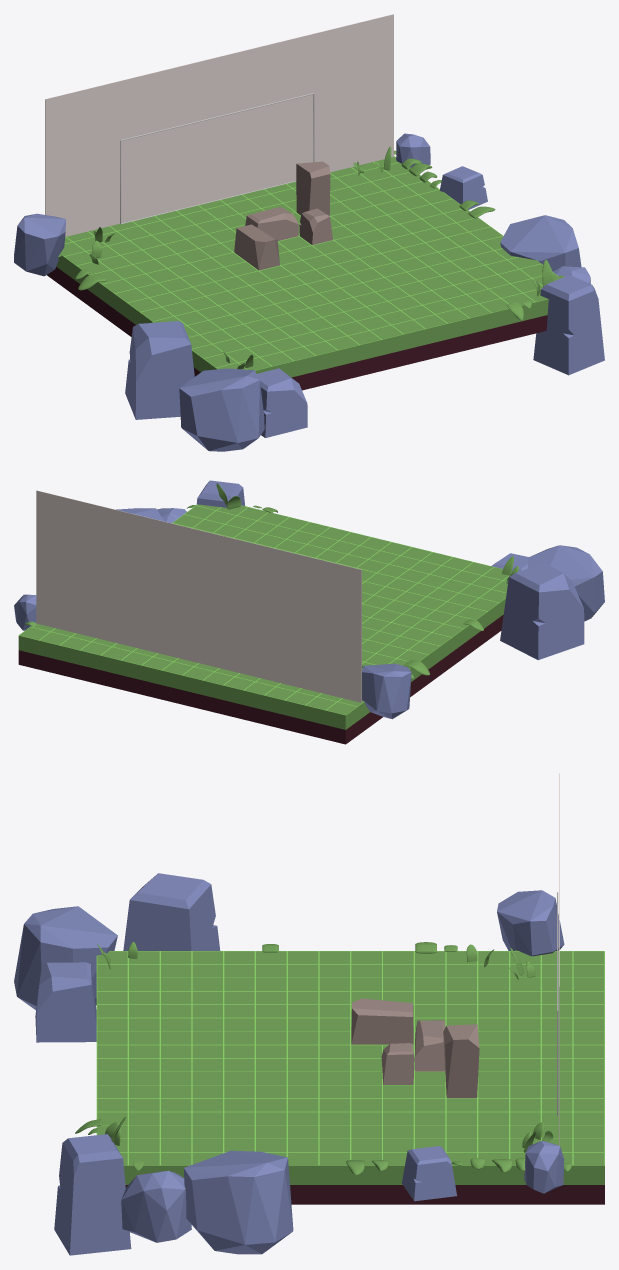
The model's file is Graveyard_Model_02.fbx.
The picture shows the model from 3 angles, top to bottom: view 1: azimuth 30°, elevation 25°; view 2: azimuth 150°, elevation 25°; view 3: azimuth 270°, elevation 25°; orthographic projection. The views are drawn at different scales.
Visible parts, largest first — view 1: SUELO, pCube2, Grid, Cubo.102, Cubo.103, Cubo.052, Cubo.055, Cubo.058, Cubo.104, Cubo.105, Cubo.061, Cubo.053 (+4 smaller); view 2: pCube2, SUELO, Cubo.103, Grid, Cubo.102, Cubo.058, Cubo.052, Cubo.057, Cubo.104; view 3: SUELO, Grid, Cubo.055, Cubo.052, Cubo.103, Cubo.102, Cubo.104, Cubo.054, Cubo.058, Cubo.061, Cubo.105, Cubo.053 (+3 smaller).
Part boxes in pixels (<box>): SUELO: <box>47,156,560,390</box>; pCube2: <box>45,14,393,236</box>; Grid: <box>60,156,560,370</box>; Cubo.102: <box>179,368,264,451</box>; Cubo.103: <box>125,321,194,419</box>; Cubo.052: <box>533,275,604,375</box>; Cubo.055: <box>500,215,581,269</box>; Cubo.058: <box>14,213,65,276</box>; Cubo.104: <box>257,368,307,437</box>; Cubo.105: <box>296,161,330,215</box>; Cubo.061: <box>234,224,279,270</box>; Cubo.053: <box>439,166,487,209</box>; pCube2: <box>36,490,361,702</box>; SUELO: <box>18,504,511,744</box>; Cubo.103: <box>500,562,584,660</box>; Grid: <box>19,504,509,715</box>; Cubo.102: <box>528,545,604,621</box>; Cubo.058: <box>362,663,411,719</box>; Cubo.052: <box>196,480,244,507</box>; Cubo.057: <box>14,594,36,630</box>; Cubo.104: <box>491,553,528,571</box>; SUELO: <box>97,951,604,1204</box>; Grid: <box>96,951,604,1165</box>; Cubo.055: <box>184,1150,293,1254</box>; Cubo.052: <box>54,1134,131,1255</box>; Cubo.103: <box>123,873,220,950</box>; Cubo.102: <box>14,906,117,1009</box>; Cubo.104: <box>35,962,96,1042</box>; Cubo.054: <box>121,1170,191,1242</box>; Cubo.058: <box>497,890,564,956</box>; Cubo.061: <box>351,998,413,1044</box>; Cubo.105: <box>443,1024,479,1098</box>; Cubo.053: <box>402,1146,456,1201</box>.
Size of the model in its own units: 1107 by 456 by 942.
